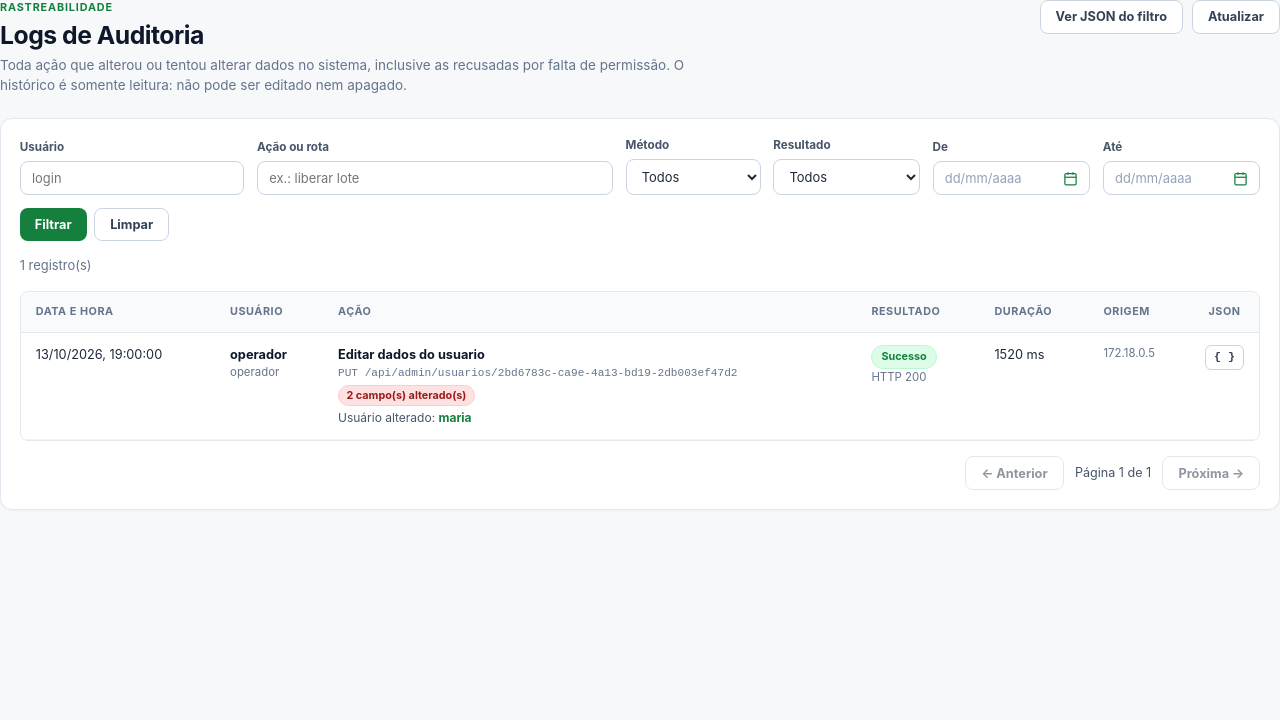
AuditoriaView › a janela mostra antes e depois com só os campos alterados em vermelho
This screenshot has width=1280, height=720.
Click the button with class "btn-json".
click(1224, 357)  # box [1205,345,1244,370]
(page scrolled)
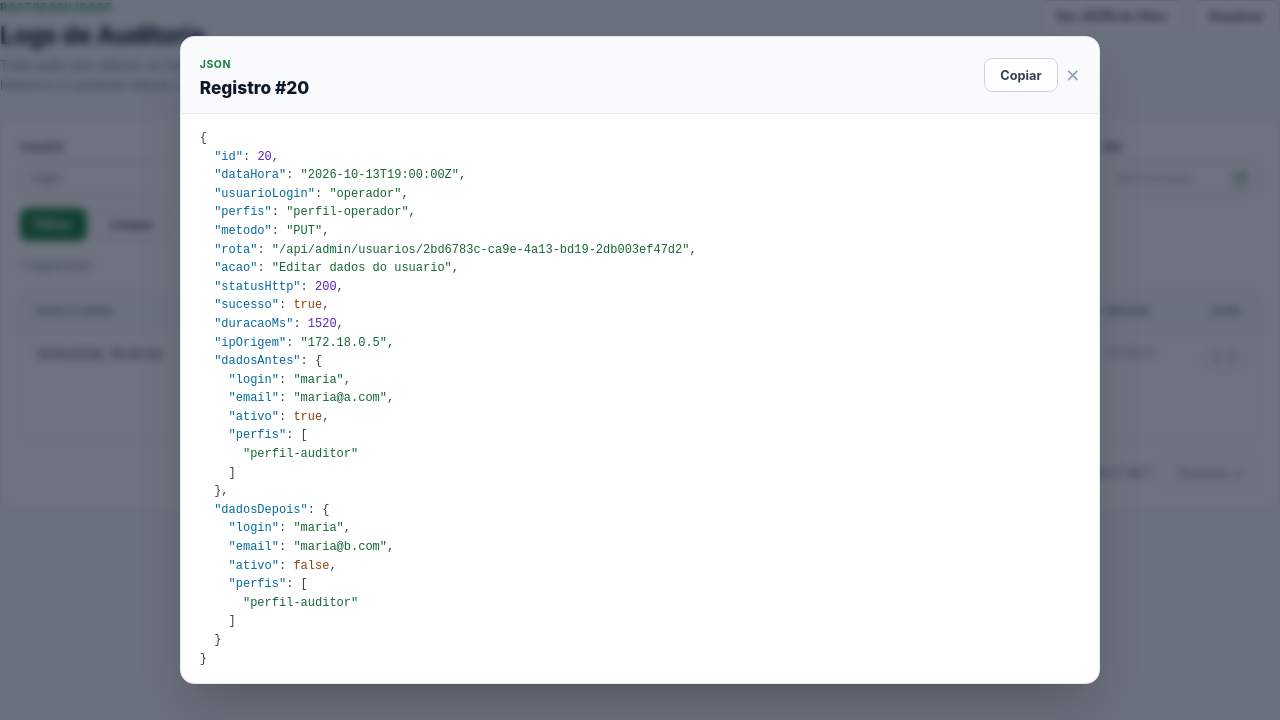
Now the element with class "json-conteudo" shows "\"email\": \"maria@a.com\"", box [200,131,697,666]
